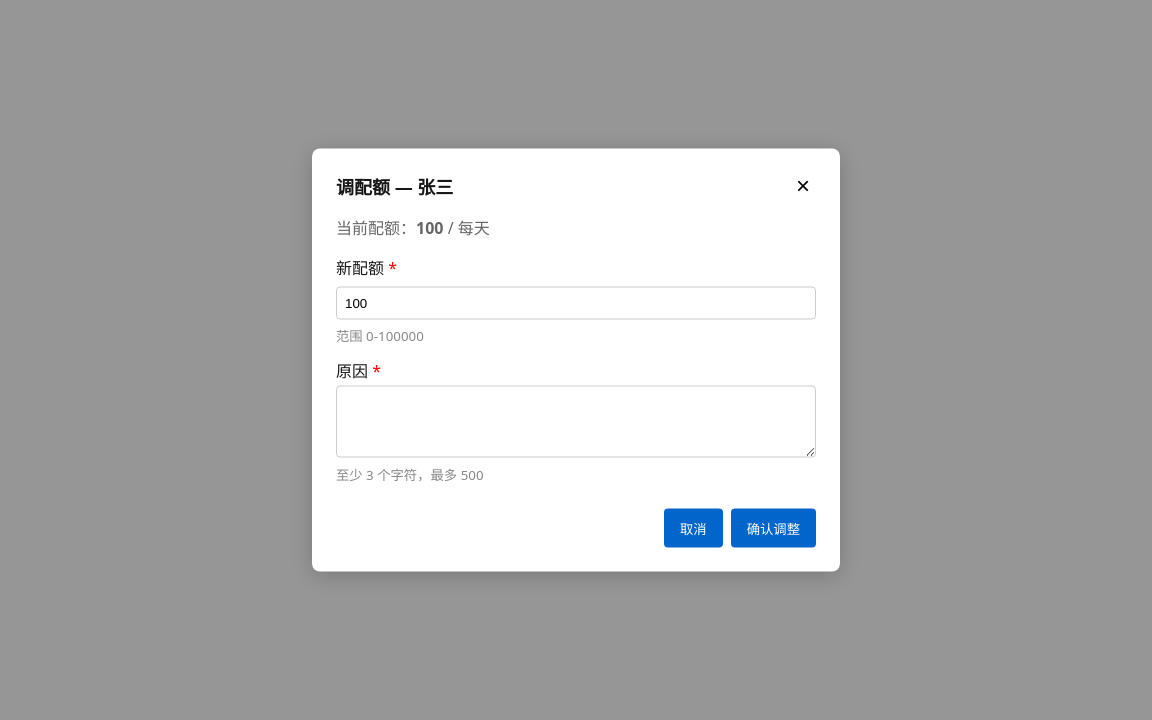
Test: QuotaModal (Sub-C Plan 2) › 3. reason < 3 chars blocks submit
Replace the text in the number field with "50". click: point(576, 303)
box: [336,286,816,320]
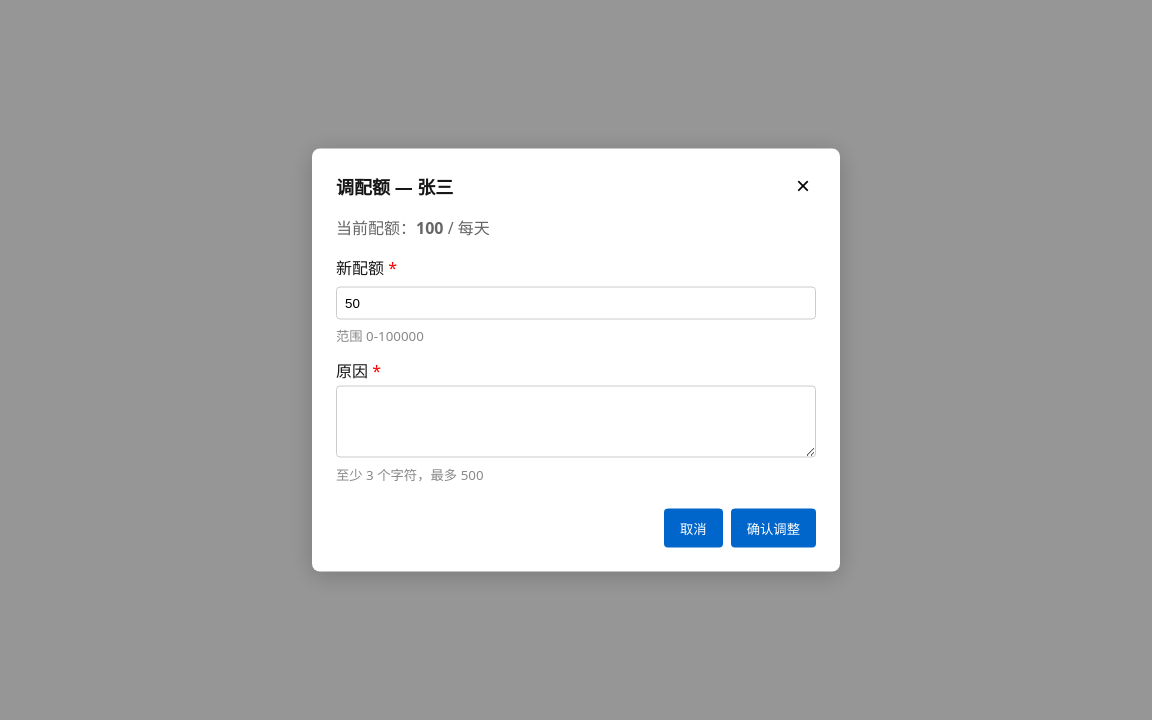
Type "ab" into the text box. click: point(576, 422)
box: [336,386,816,458]
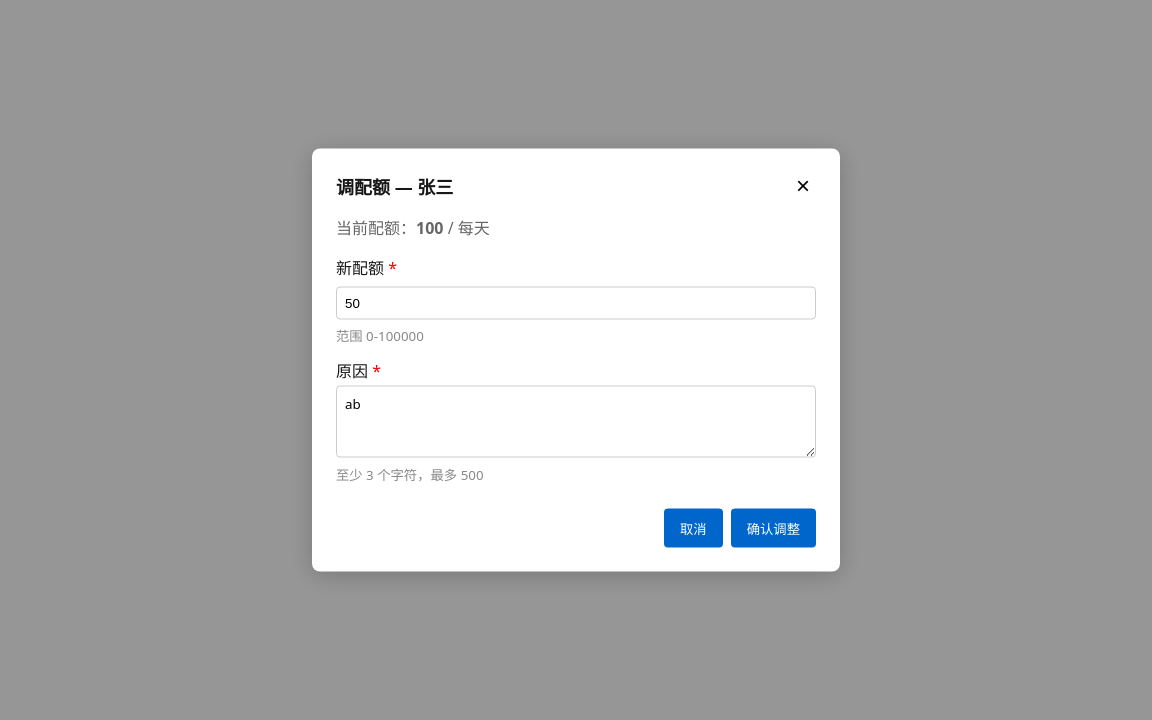
Click the button "确认调整". click: point(773, 528)
box: [731,508,816,548]
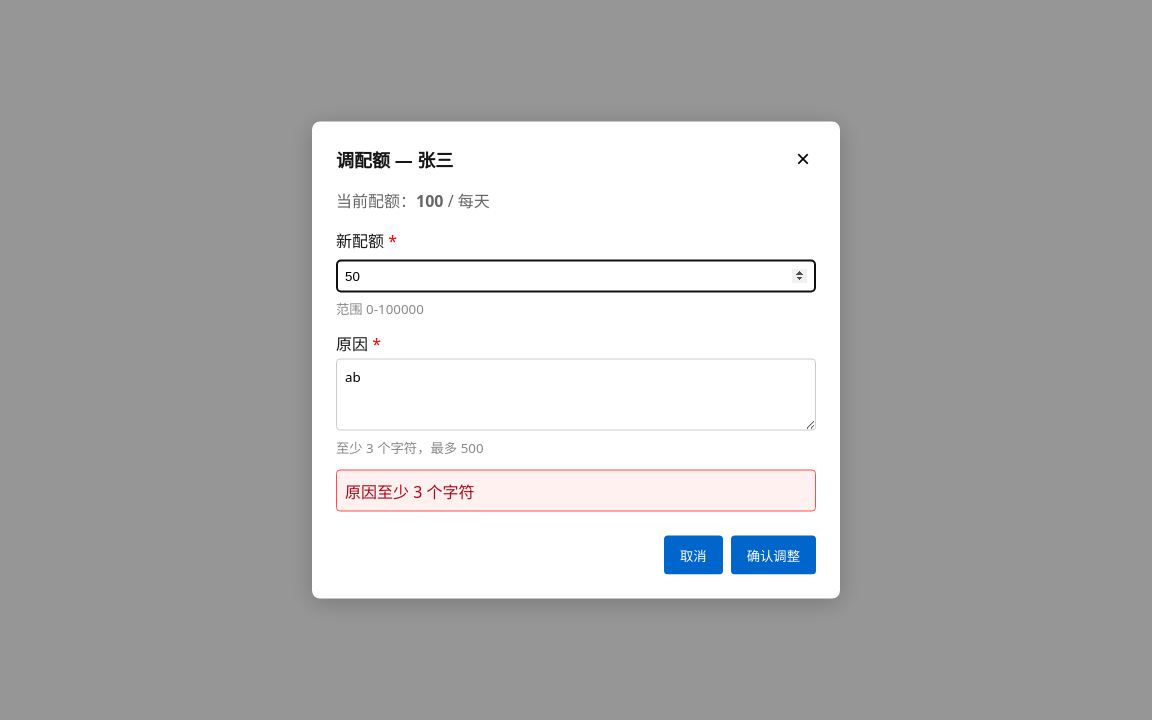
Check: the text "原因至少 3 个字符" is shown, box [336,470,816,512]
